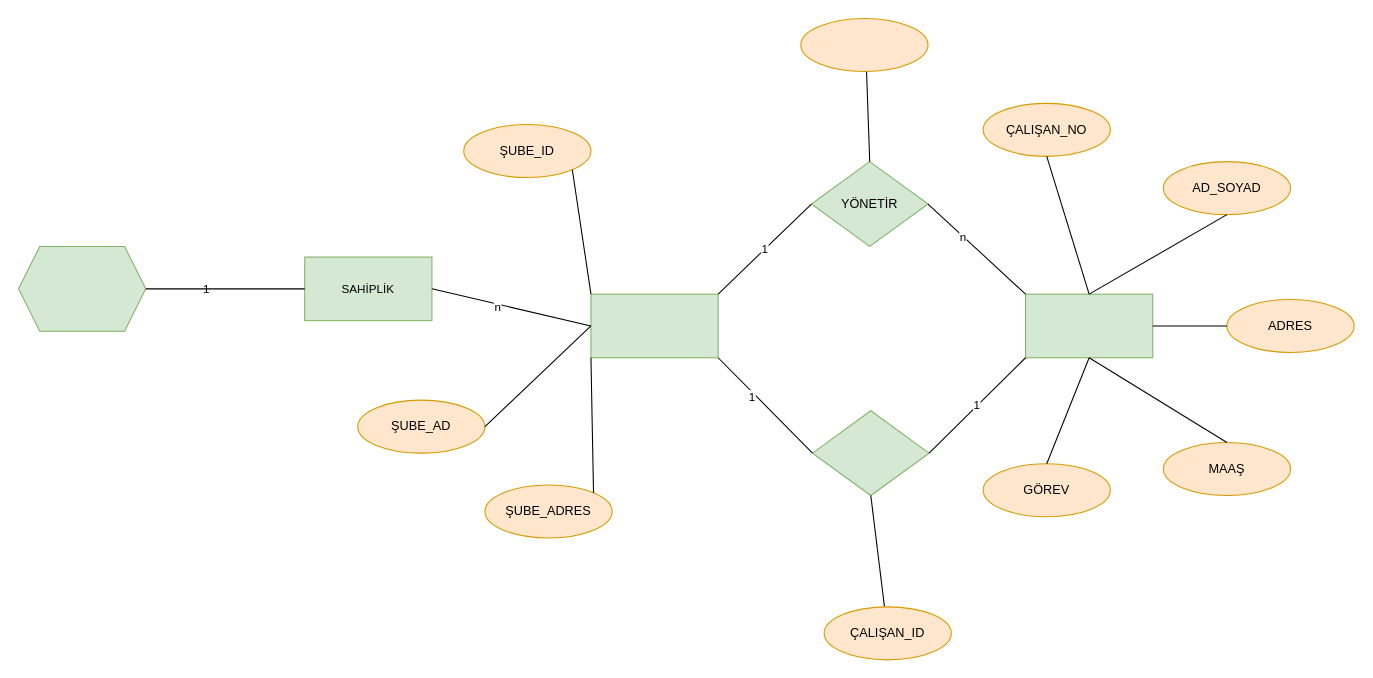
This 1373x678 diagram has some shape labels left out. Here are the shapes that lost their labels. From the top down, the centre of each, then its label:
the point at 864,44: YÖNETİCİ_ID
the point at 81,288: ŞİRKET
the point at 654,325: ŞUBE
the point at 1088,325: ÇALIŞAN
the point at 870,453: ÇALIŞIR
